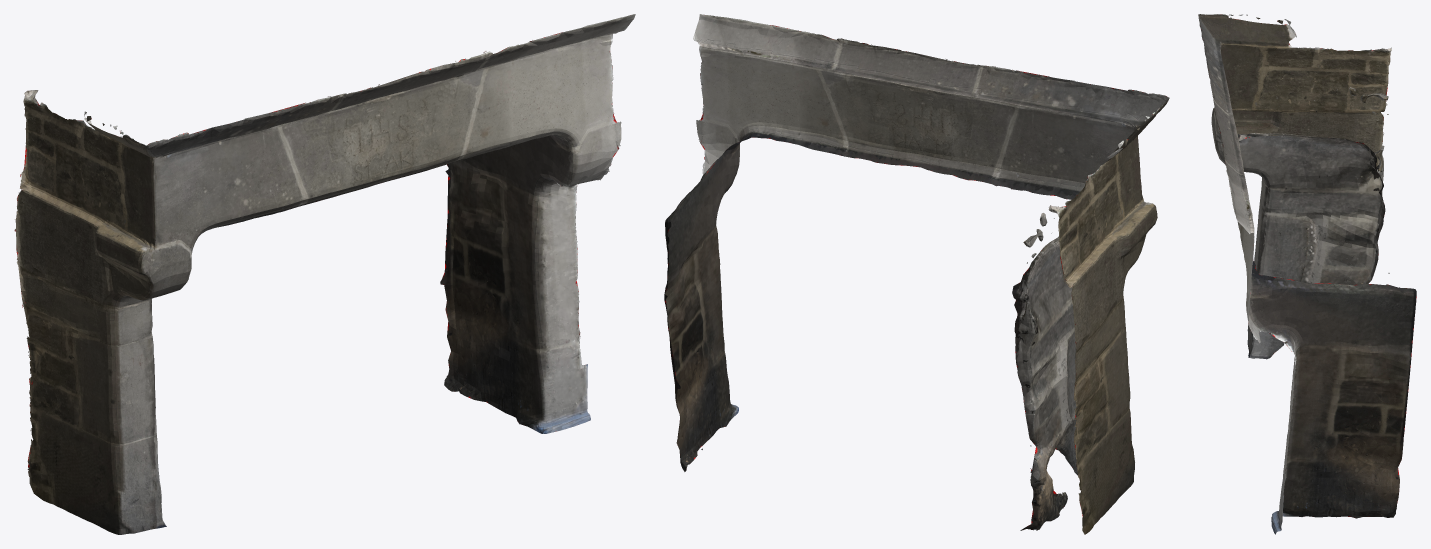
File: fireplace_galway.glb
The picture shows the model from 3 angles, left to right: view 1: azimuth 30°, elevation 25°; view 2: azimuth 150°, elevation 25°; view 3: azimuth 270°, elevation 25°; orthographic projection. The views are drawn at different scales.
Parts seen in each view (by area): view 1: Object_2; view 2: Object_2; view 3: Object_2.
Part boxes in pixels (x1=…): Object_2: x1=14, y1=14, x2=635, y2=534; Object_2: x1=664, y1=14, x2=1169, y2=534; Object_2: x1=1198, y1=14, x2=1416, y2=534.
Size of the model in its own units: 22.58 by 18.18 by 10.52.
1 material, 1 textured.
